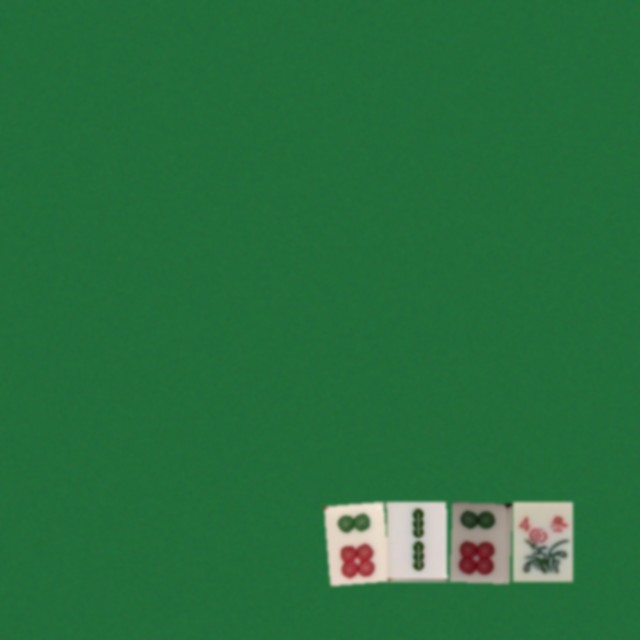tile: (323, 501, 383, 581), (386, 501, 446, 581), (449, 501, 509, 581), (512, 501, 572, 581)
